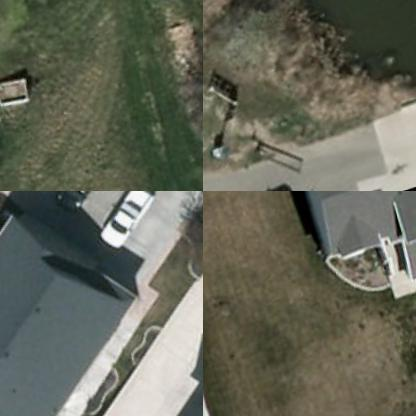car: (85, 191, 161, 256), (38, 191, 126, 222)
